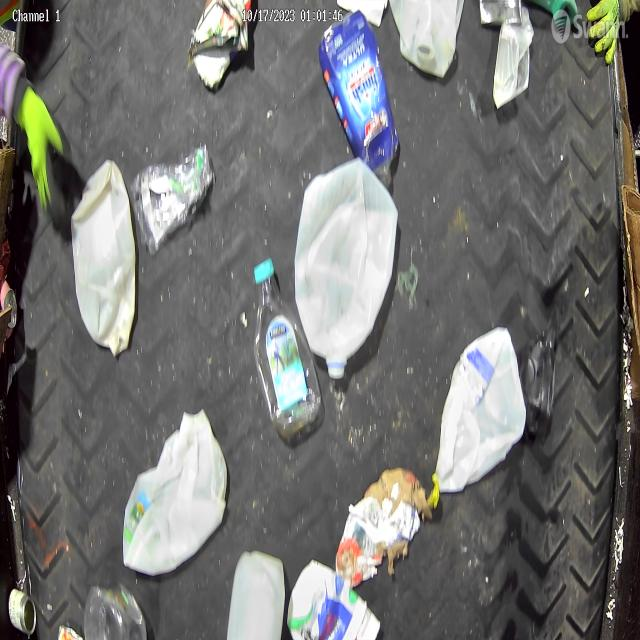can: (9, 588, 38, 636)
milk_jug: (295, 160, 400, 382), (121, 407, 227, 580), (438, 326, 527, 498), (72, 160, 138, 353), (389, 0, 465, 79), (226, 551, 286, 640)
plastic_bottle: (256, 260, 321, 442)
